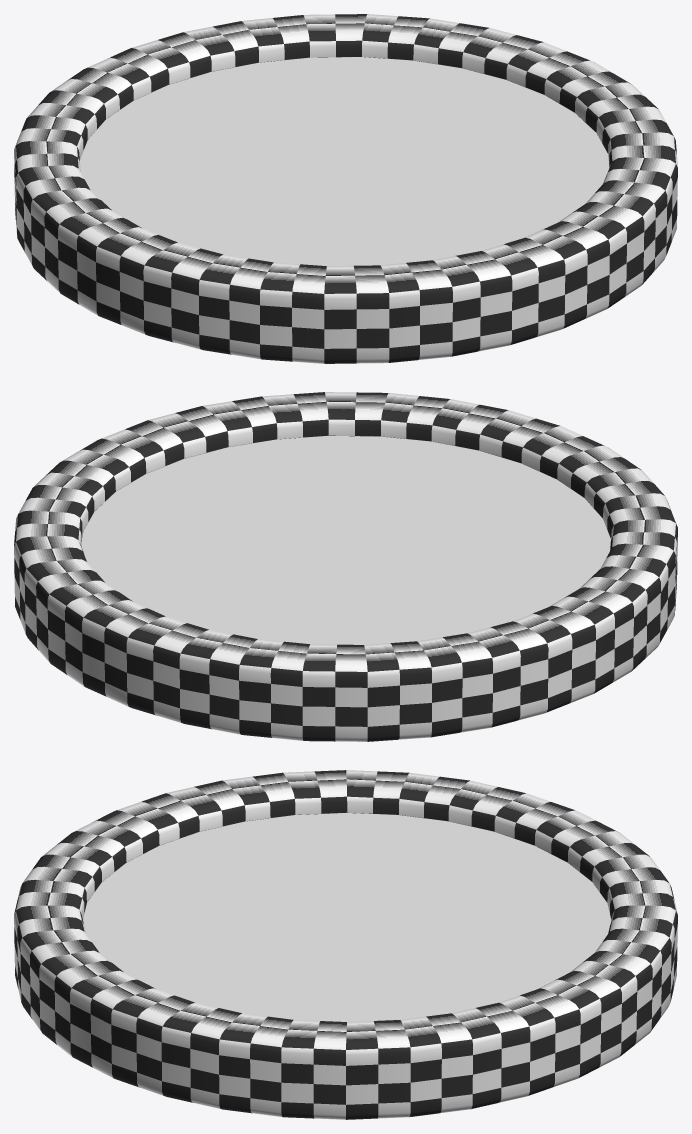
File: finishLine.fbx
The picture shows the model from 3 angles, top to bottom: view 1: azimuth 30°, elevation 25°; view 2: azimuth 150°, elevation 25°; view 3: azimuth 270°, elevation 25°; orthographic projection.
Visible parts, largest first — view 1: FinishLine, FinishLinePortal; view 2: FinishLine, FinishLinePortal; view 3: FinishLine, FinishLinePortal.
Part boxes in pixels (x1=…): FinishLine: x1=14, y1=14, x2=677, y2=363; FinishLinePortal: x1=80, y1=57, x2=609, y2=265; FinishLine: x1=14, y1=392, x2=677, y2=741; FinishLinePortal: x1=81, y1=436, x2=610, y2=644; FinishLine: x1=14, y1=770, x2=677, y2=1119; FinishLinePortal: x1=83, y1=813, x2=611, y2=1021.
Bounding box in the file's own units: 39.98 × 39.98 × 5.23.
